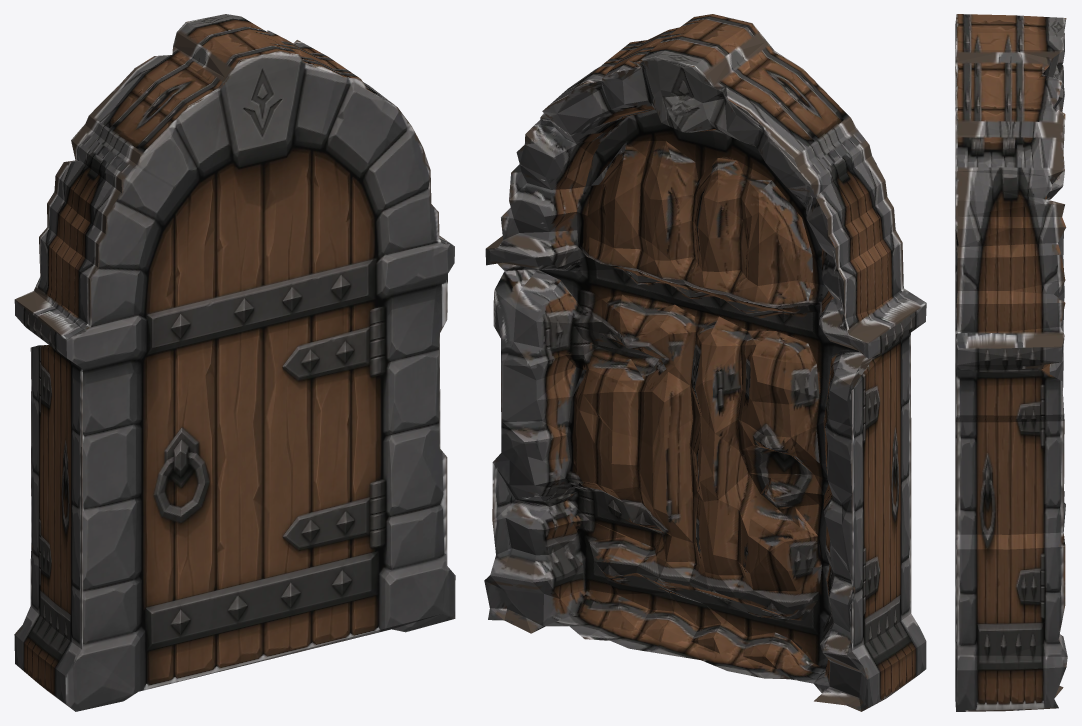
The model's file is SM_Dungeon_Door_A_LOD0.glb.
3 views of the same model, side by side, from view 1: azimuth 30°, elevation 25°; view 2: azimuth 150°, elevation 25°; view 3: azimuth 270°, elevation 25° (orthographic). The views are drawn at different scales.
Parts seen in each view (by area): view 1: SM_Dungeon_Door_A_LOD0; view 2: SM_Dungeon_Door_A_LOD0; view 3: SM_Dungeon_Door_A_LOD0.
Boxes of the visible parts, left/top/right/bottom form: SM_Dungeon_Door_A_LOD0: left=14, top=14, right=455, bottom=711; SM_Dungeon_Door_A_LOD0: left=484, top=14, right=926, bottom=711; SM_Dungeon_Door_A_LOD0: left=955, top=14, right=1067, bottom=711.
Size of the model in its own units: 2 by 3 by 0.5114.
Materials: 1 (1 with a texture image).
